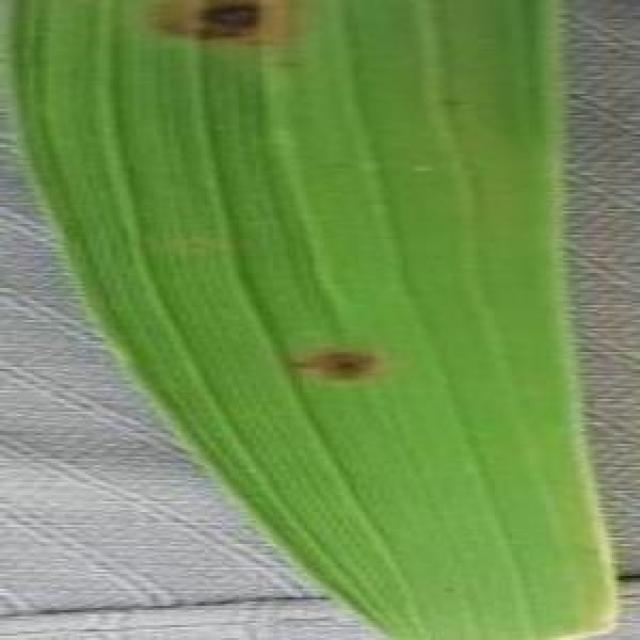Brown_Spot: (158, 0, 302, 51), (286, 344, 385, 385)
